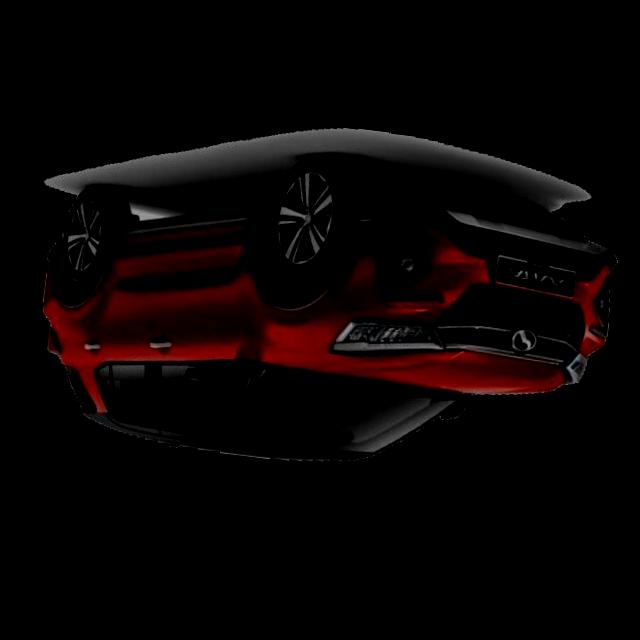PeroduaAtiva: (23, 120, 628, 501)
